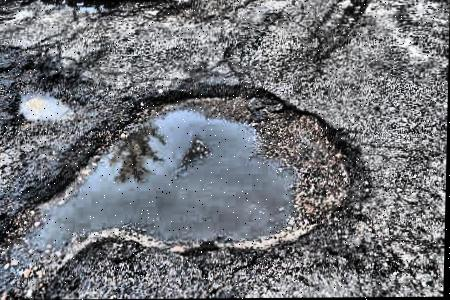pothole: (46, 77, 377, 258), (0, 55, 85, 125)
